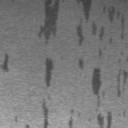red iron: (76, 0, 124, 56), (78, 59, 112, 128), (38, 0, 61, 44), (116, 70, 128, 96), (45, 58, 54, 88), (42, 100, 48, 128), (0, 54, 8, 71), (68, 110, 74, 126), (26, 124, 29, 128)
